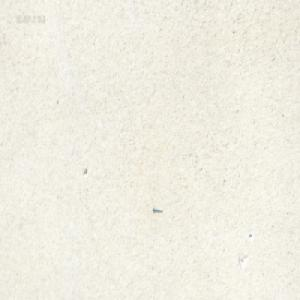Nail: (152, 206, 162, 214)
